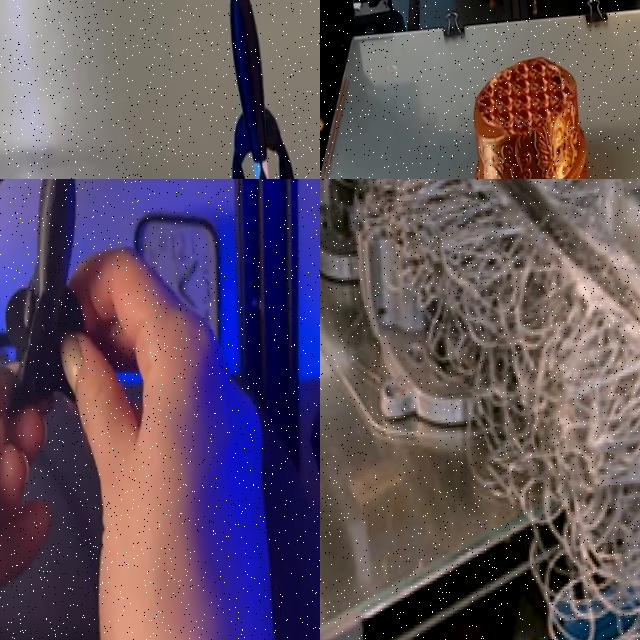spaghetti: (320, 179, 640, 640)
